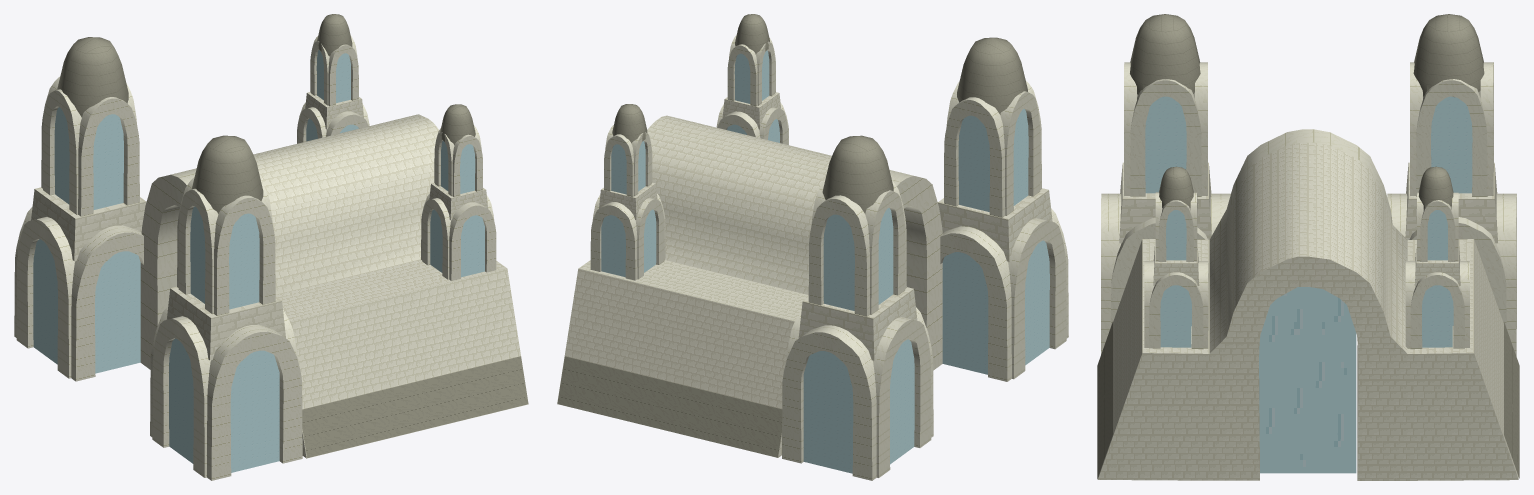
The model's file is water_cityhall.fbx.
3 renders of one model, left to right at view 1: azimuth 30°, elevation 25°; view 2: azimuth 150°, elevation 25°; view 3: azimuth 270°, elevation 25°, orthographic. The views are drawn at different scales.
Visible parts, largest first — view 1: cityhall; view 2: cityhall; view 3: cityhall.
Part boxes in pixels (box(x1,y1,x2,y2)): cityhall: box(14, 14, 528, 480); cityhall: box(557, 14, 1068, 480); cityhall: box(1097, 14, 1519, 480).
Bounding box in the file's own units: 3718 × 3629 × 4060.
Materials: 5 (4 with a texture image).
